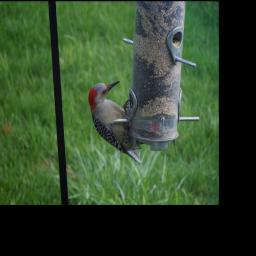Woodpecker: (89, 80, 143, 165)
